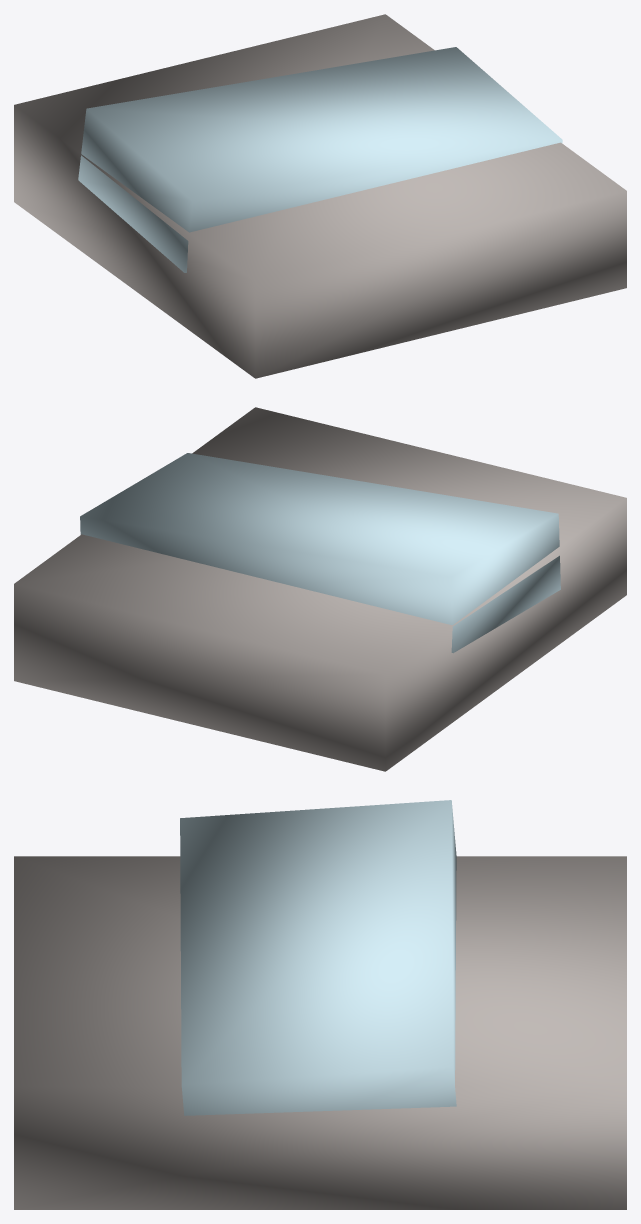
File: glacier.glb
3 renders of one model, top to bottom at view 1: azimuth 30°, elevation 25°; view 2: azimuth 150°, elevation 25°; view 3: azimuth 270°, elevation 25°, orthographic. The views are drawn at different scales.
Visible parts, largest first — view 1: valley, ice; view 2: valley, ice; view 3: valley, ice.
Boxes of the visible parts, x1=… form: valley: x1=14, y1=14, x2=626, y2=378; ice: x1=78, y1=47, x2=562, y2=272; valley: x1=14, y1=407, x2=626, y2=771; ice: x1=80, y1=453, x2=560, y2=653; valley: x1=14, y1=856, x2=626, y2=1209; ice: x1=180, y1=800, x2=456, y2=1115.
Size of the model in its own units: 1.62 by 0.5891 by 1.8.
